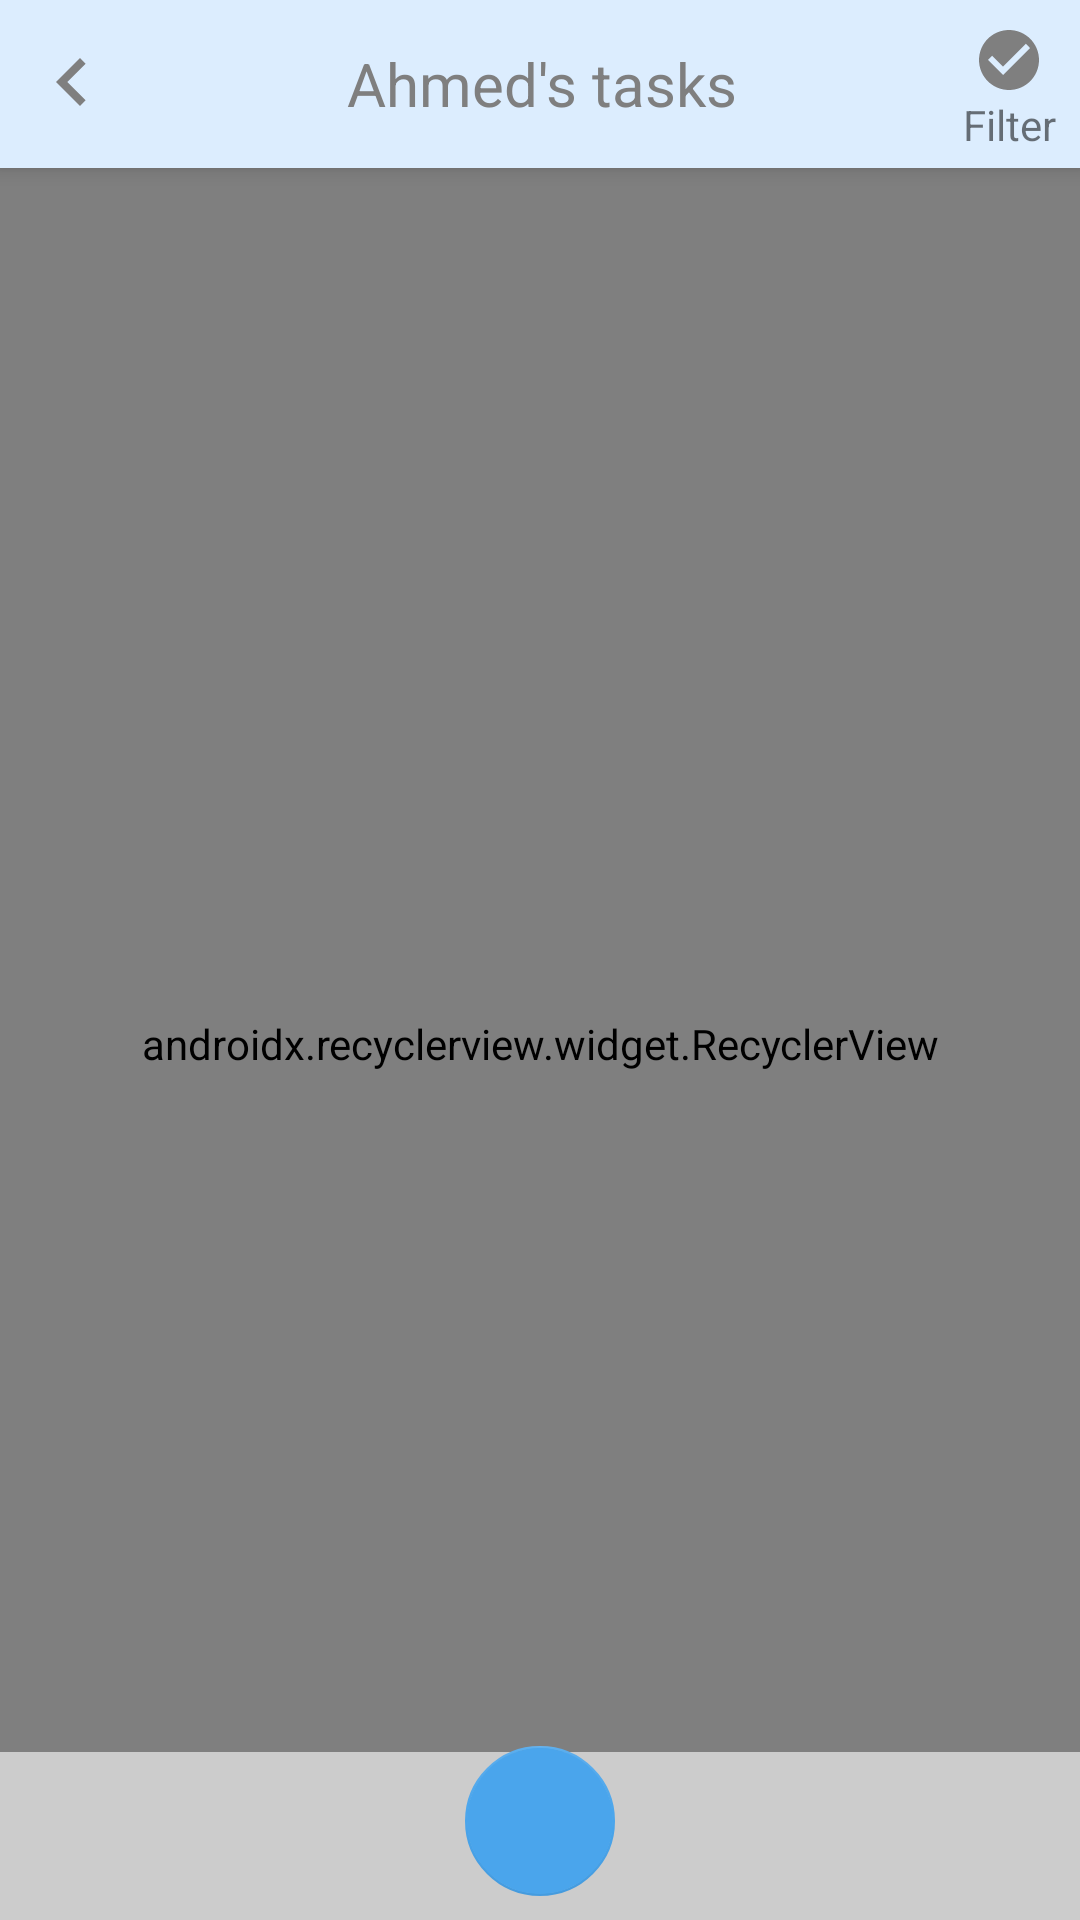

Named icons in this screenshot (1080px x 1920px) and their bounding boxes, (x1, y1, x2, y2):
back arrow: (56, 58, 86, 106)
